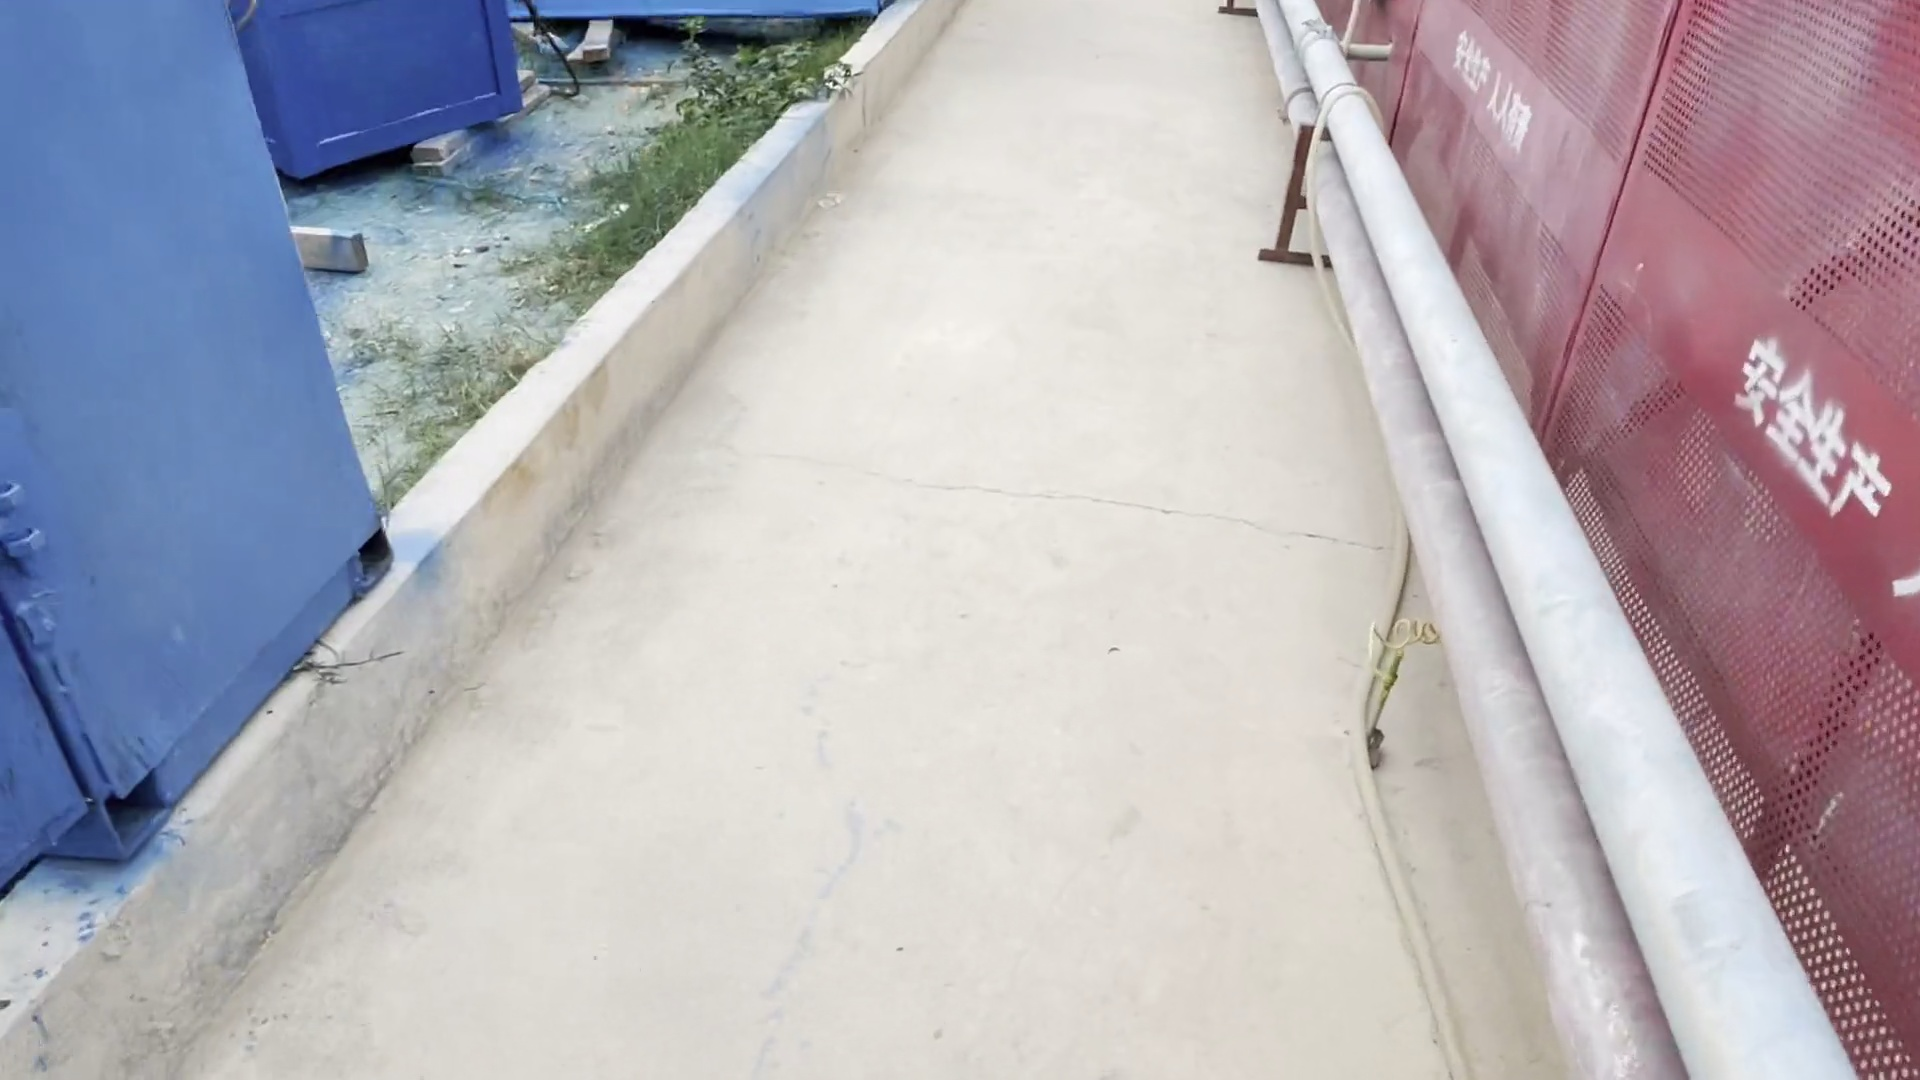fence: (1530, 12, 1920, 691)
